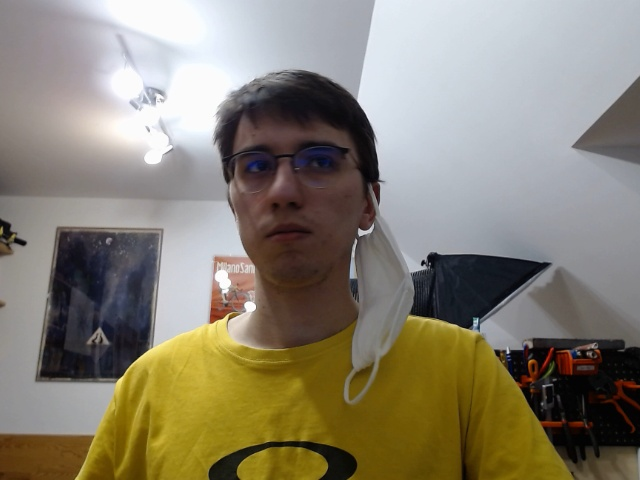WrongMask: (216, 66, 385, 313)
